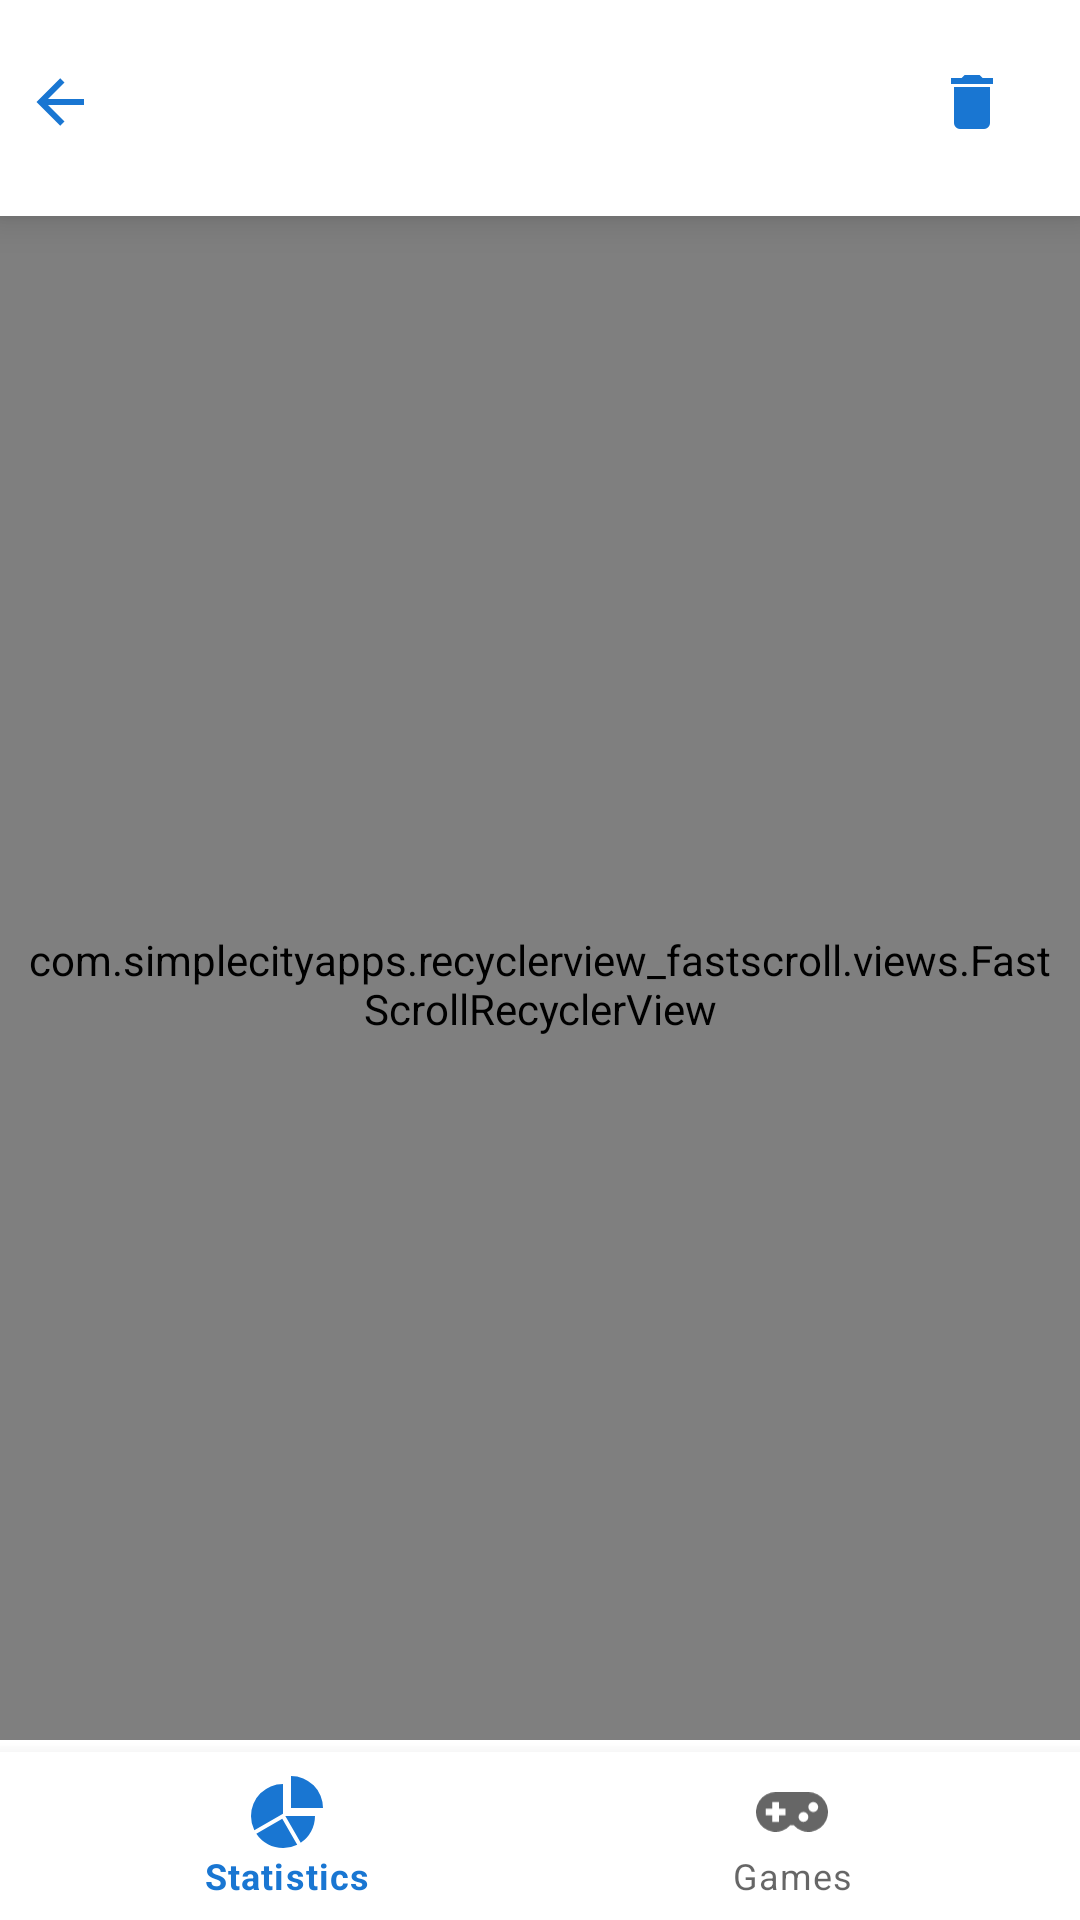

Icons on this 1080px x 1920px Android screen, each with its box as (x1, y1, x2, y2):
arrow left: (36, 78, 84, 126)
delete: (951, 75, 993, 129)
